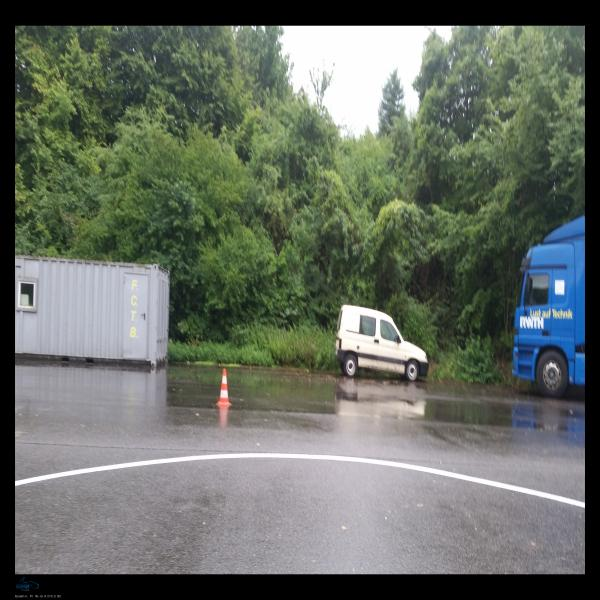large_orange_cone: (216, 369, 232, 406)
